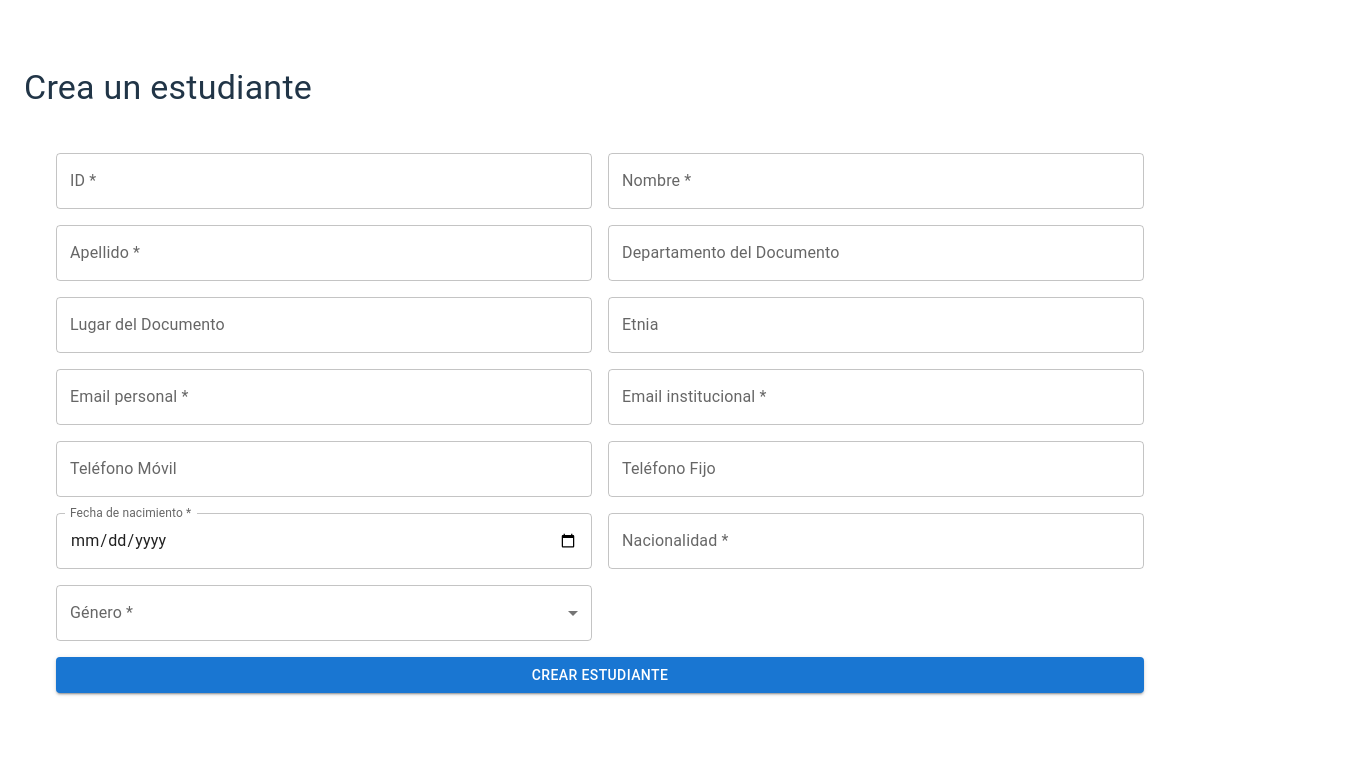
CreateStudent Component › debería mostrar errores de validación si se envía vacío
Click the button "Crear Estudiante".
click(600, 675)  # box [56,657,1144,693]
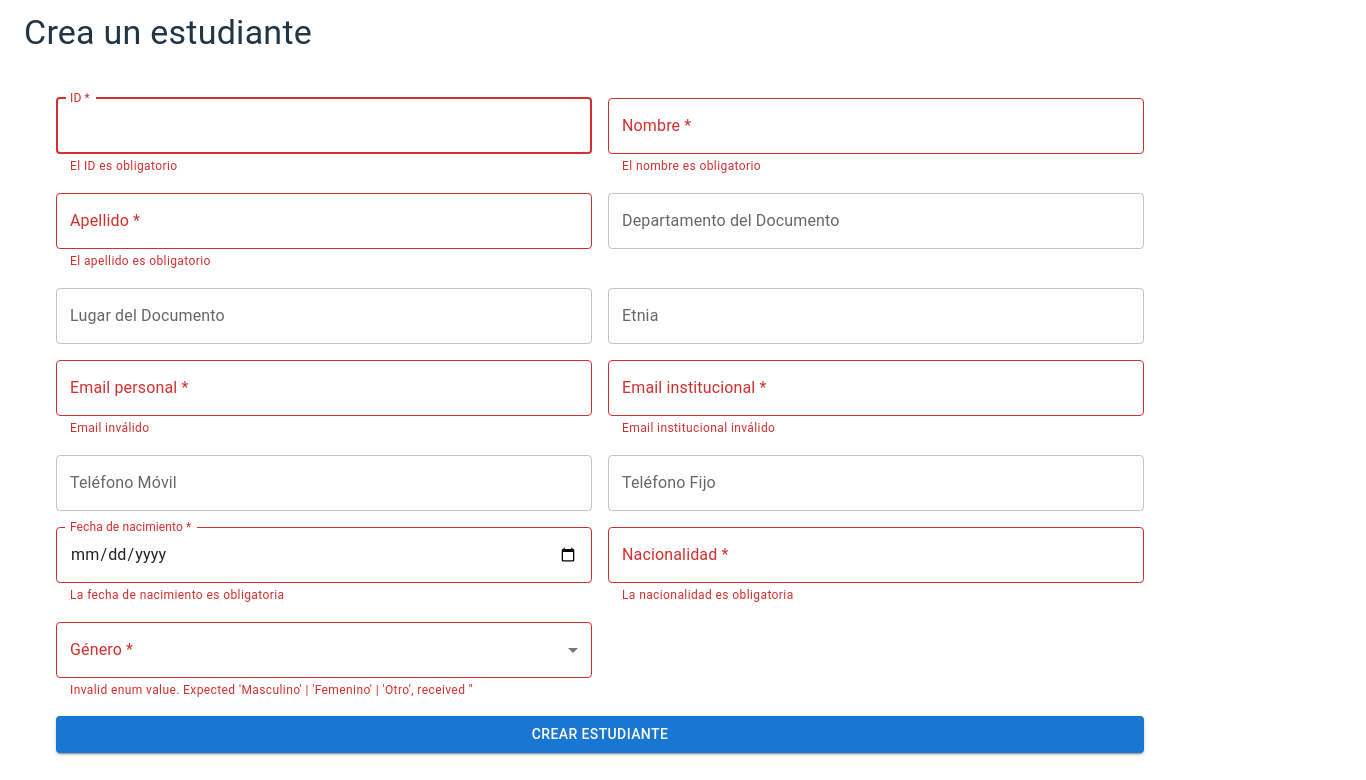
Now the text "El ID es obligatorio" is shown, box [70,159,178,173]
Now the text "El nombre es obligatorio" is shown, box [622,159,761,173]
